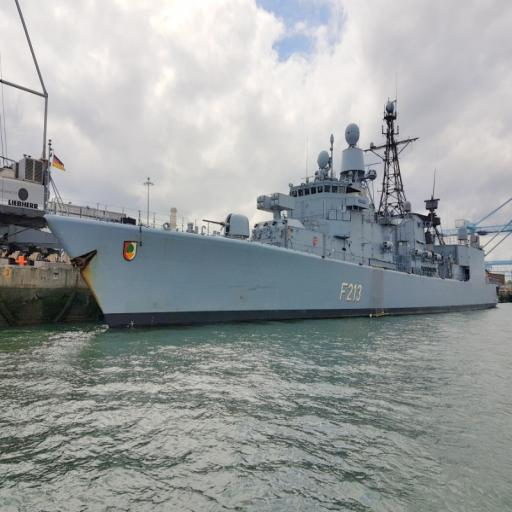Fragata: (37, 134, 503, 337)
